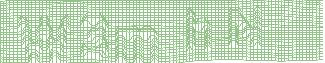3: (78, 12, 110, 60)
N: (228, 5, 263, 50)
W: (15, 15, 72, 63)
h: (185, 7, 212, 53)
m: (113, 25, 161, 63)
